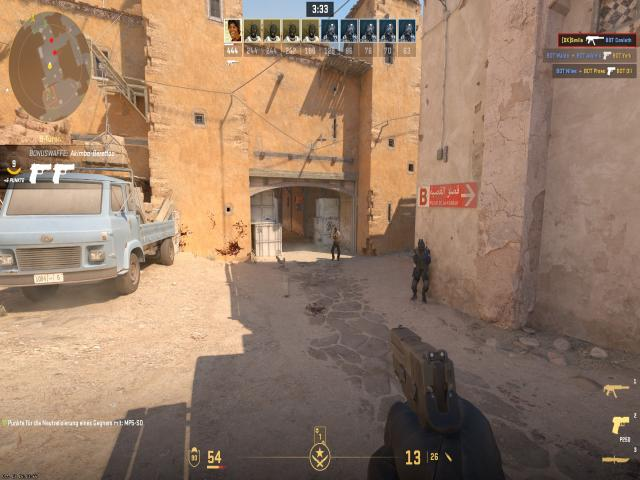CT: (414, 240, 431, 302)
CT-Head: (419, 240, 425, 249)
T: (333, 227, 341, 258)
T-Head: (334, 228, 338, 232)
